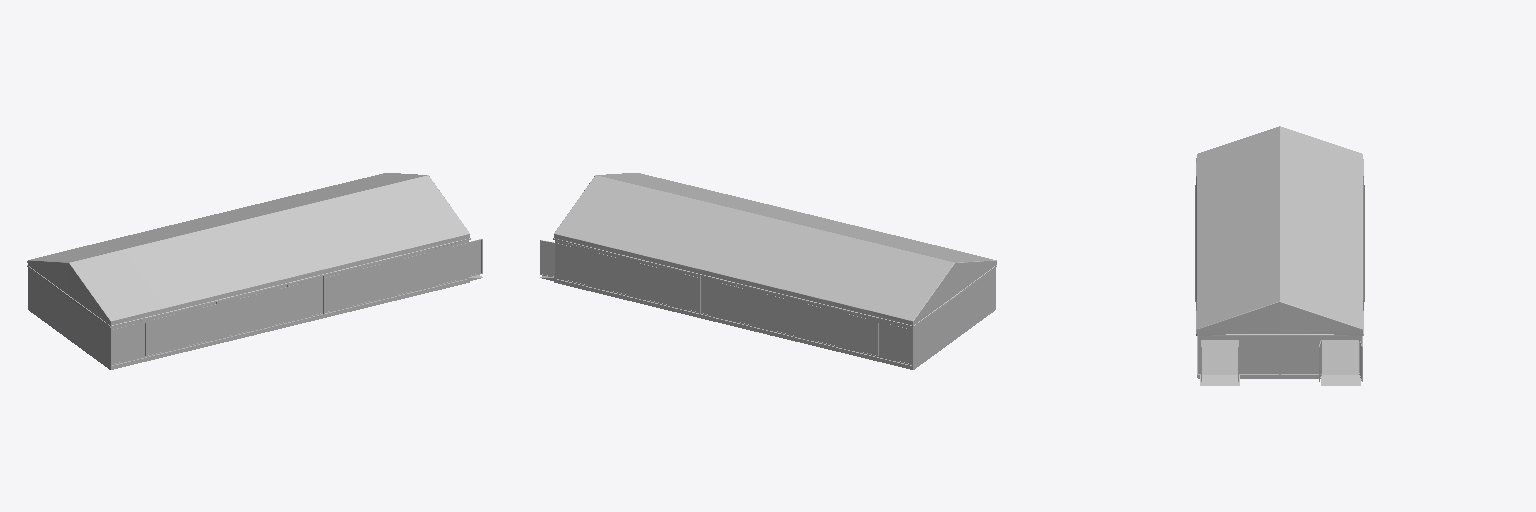
Rendered from Marque.obj.
The picture shows the model from 3 angles: view 1: azimuth 30°, elevation 25°; view 2: azimuth 150°, elevation 25°; view 3: azimuth 270°, elevation 25°; orthographic projection.
Visible parts, largest first — view 1: Marque.002; view 2: Marque.002; view 3: Marque.002.
Part boxes in pixels (left/top/right/bottom): Marque.002: left=27, top=173, right=482, bottom=369; Marque.002: left=540, top=173, right=996, bottom=369; Marque.002: left=1195, top=126, right=1364, bottom=385.
Bounding box in the file's own units: 26.19 × 5.18 × 10.2.